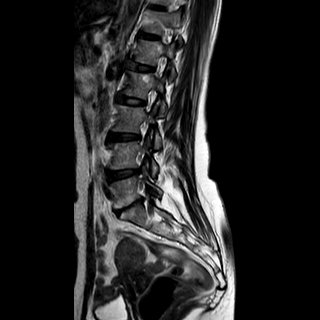LFS0: (148, 50, 174, 83), (136, 83, 161, 116)
